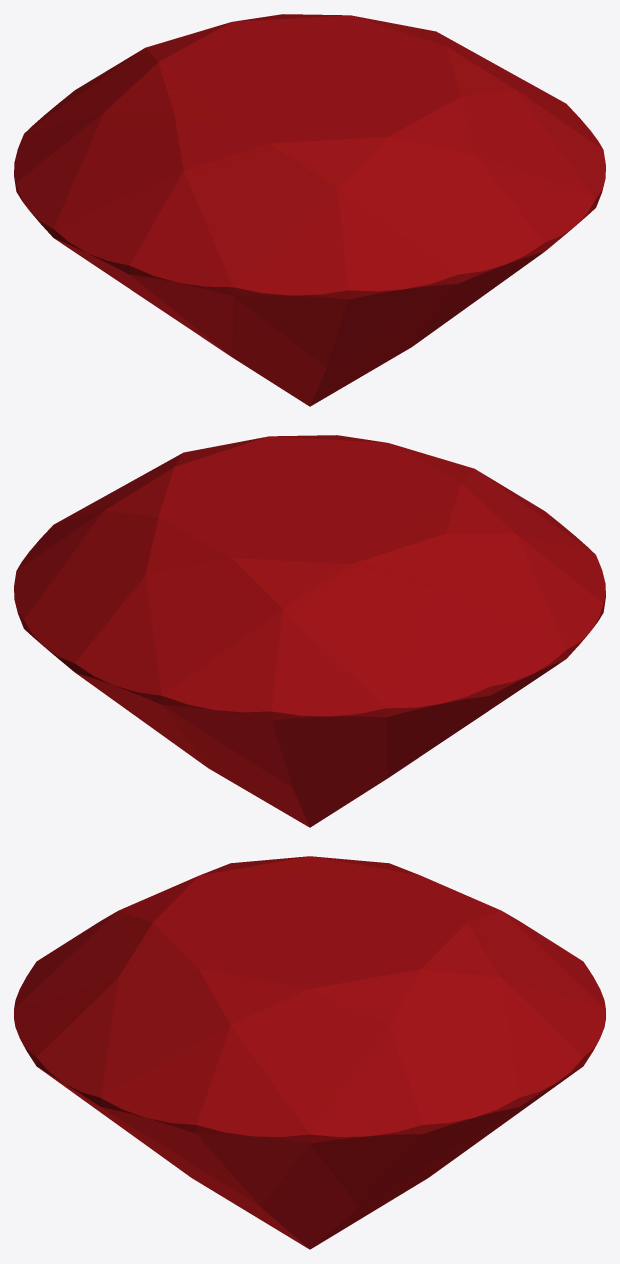
File: diamante.glb
The picture shows the model from 3 angles, top to bottom: view 1: azimuth 30°, elevation 25°; view 2: azimuth 150°, elevation 25°; view 3: azimuth 270°, elevation 25°; orthographic projection.
Visible parts, largest first — view 1: dobj; view 2: dobj; view 3: dobj.
Part boxes in pixels (left/top/right/bottom): dobj: left=14, top=14, right=605, bottom=406; dobj: left=14, top=435, right=605, bottom=827; dobj: left=14, top=856, right=605, bottom=1249.
Bounding box in the file's own units: 2 × 1.22 × 2.
Materials: 1 (1 with a texture image).
